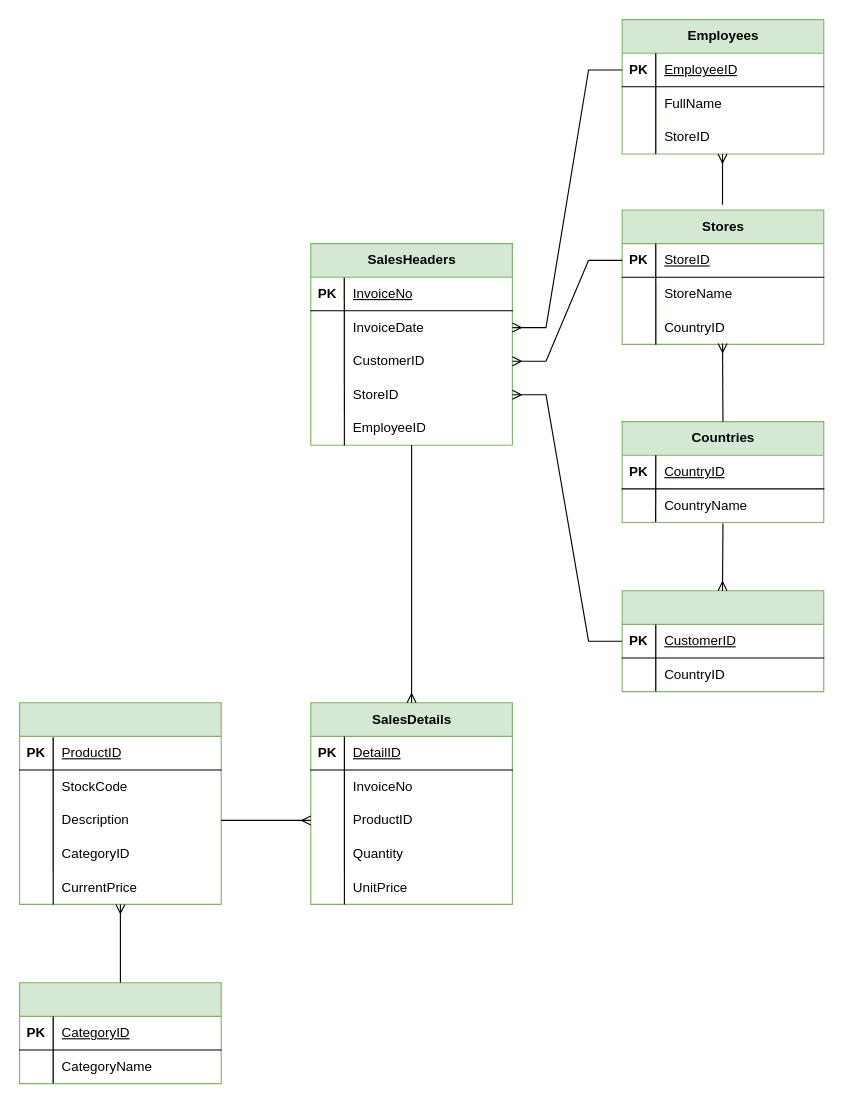
Some shapes in this 843 by 1104 pixel diagram are drawn without their labels. Each missing label, with the box of its shape:
Categories: (18, 982, 221, 1084)
Customers: (621, 590, 824, 692)
Products: (18, 702, 221, 904)
